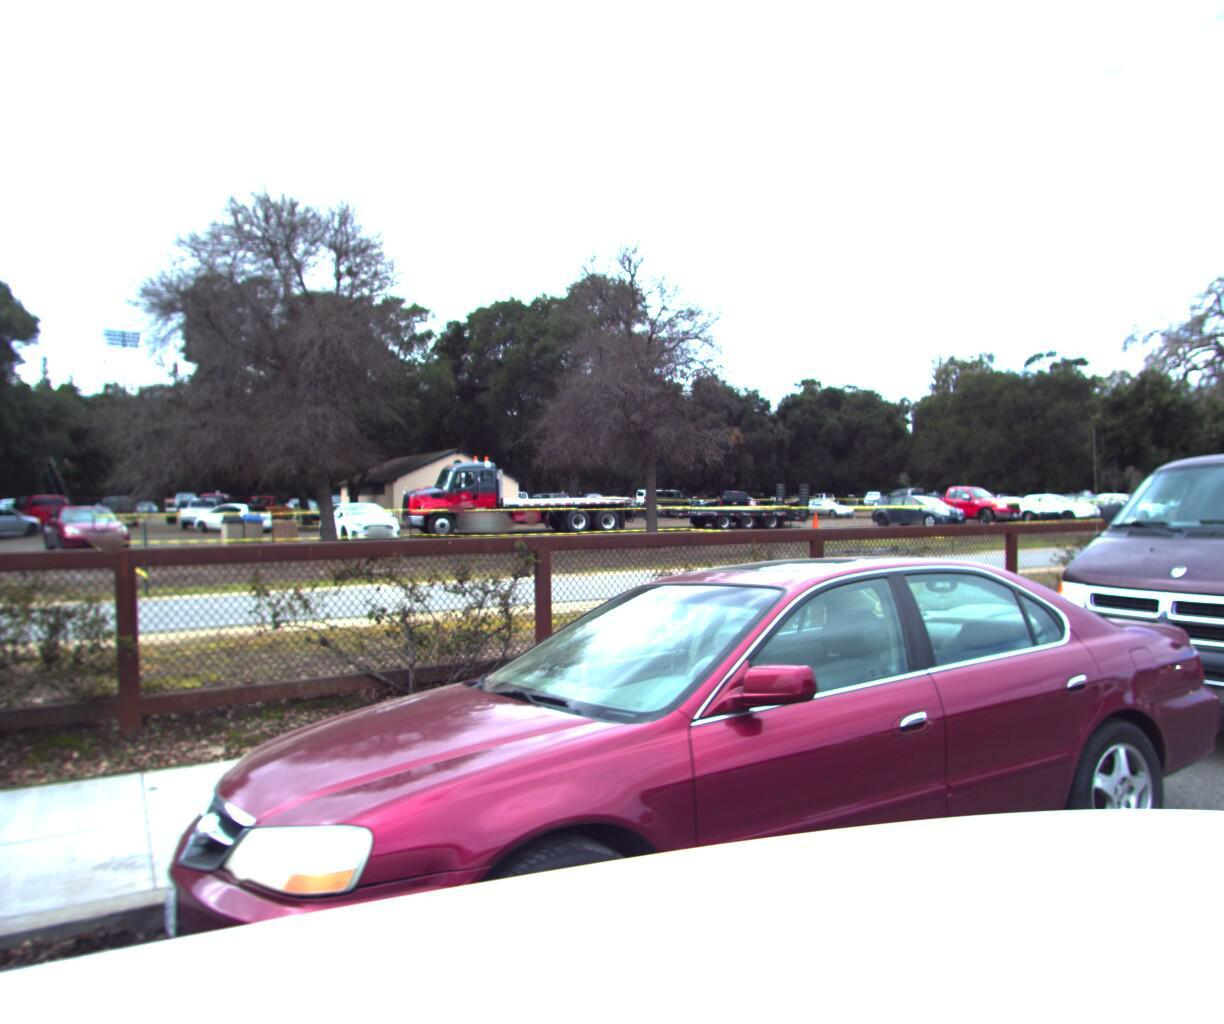car: (117, 525, 1224, 1024), (998, 414, 1224, 817)
